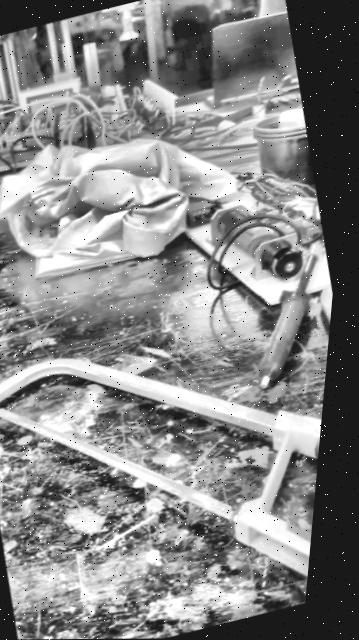pot: (244, 115, 321, 200)
